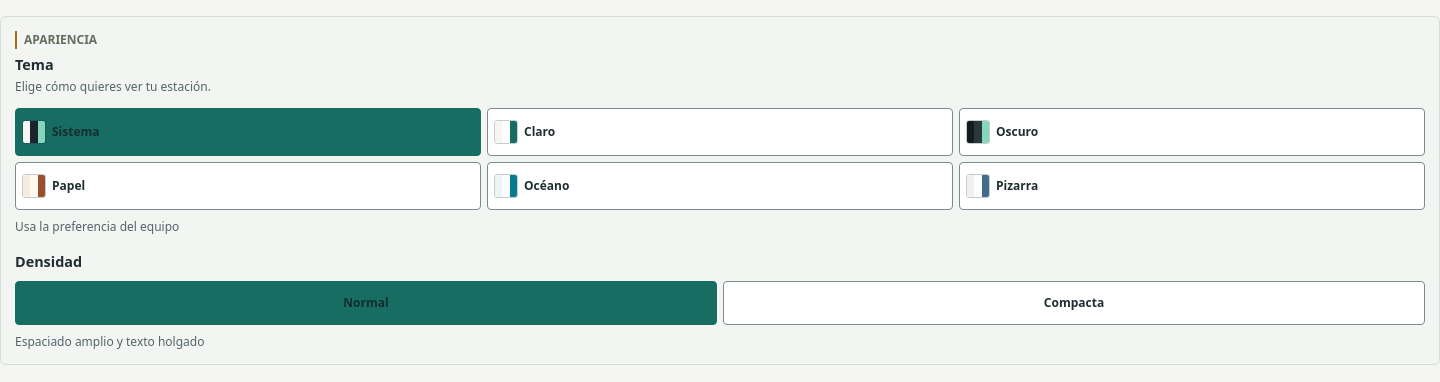
Test: ThemeSwitcher › cambia a la densidad compacta y la recuerda
What coordinates should you click on to do the following:
click the button "Compacta"
I would click on:
 (1074, 303)
Its box is x1=723 y1=281 x2=1425 y2=325.
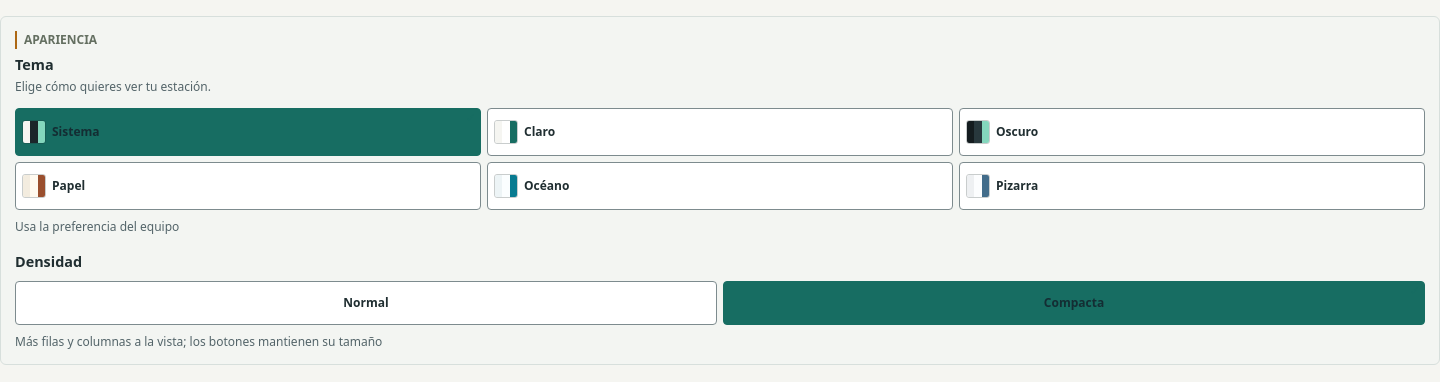
Now the text "Más filas y columnas a la vista" is shown, box x1=15 y1=333 x2=382 y2=350
